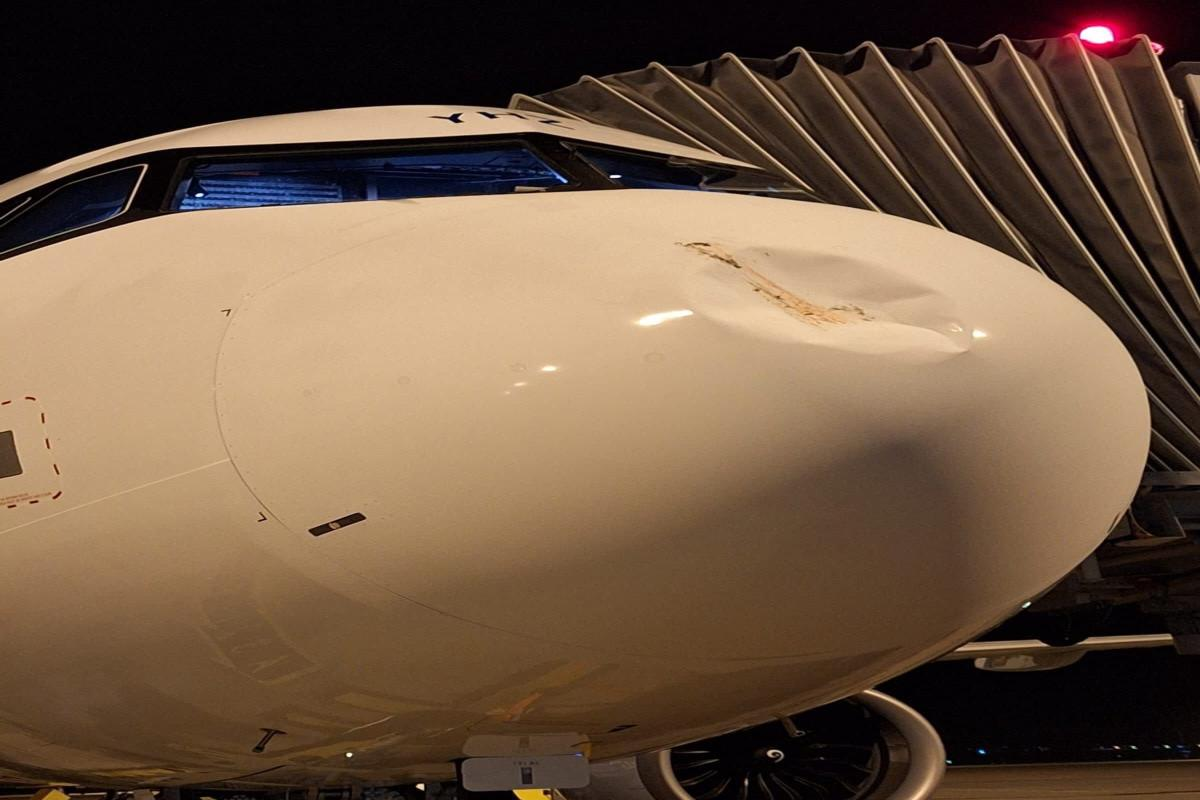Fuselage_damage: (670, 245, 983, 361)
